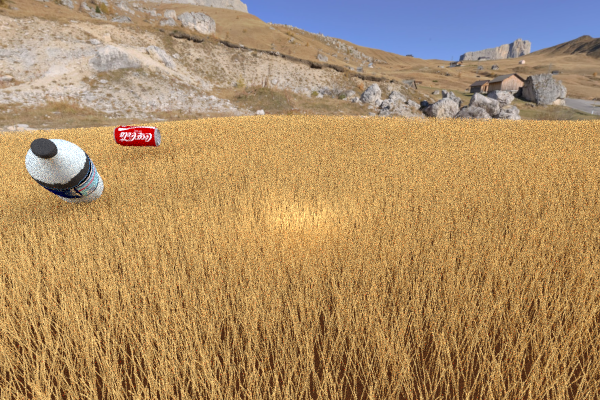bottle: (25, 138, 103, 204)
can: (514, 108, 568, 130), (113, 125, 160, 146)
